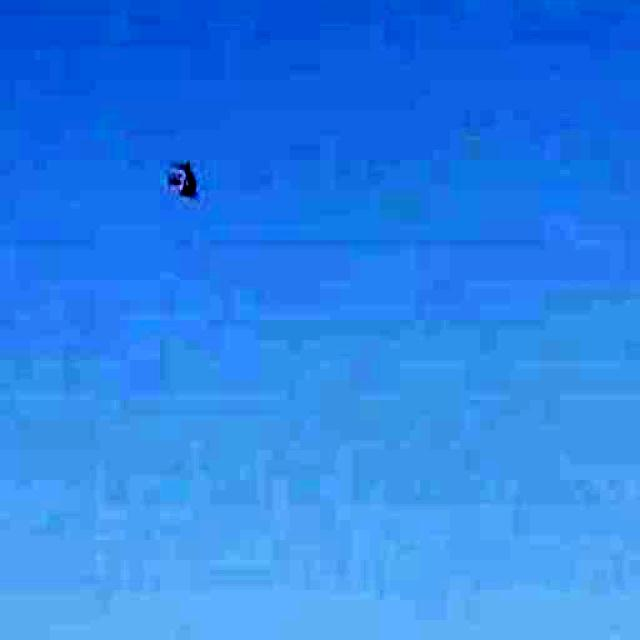drone: (139, 131, 239, 215)
